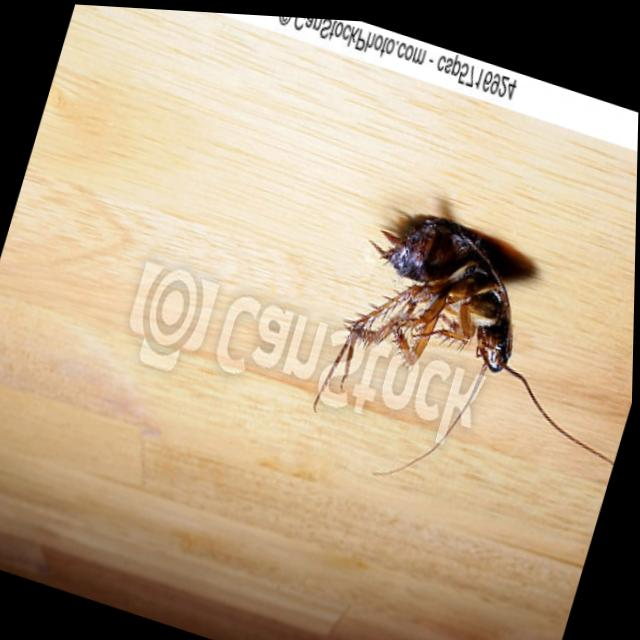Cockroach: (292, 182, 637, 552)
